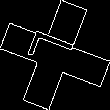L_E: (26, 32, 84, 78)
